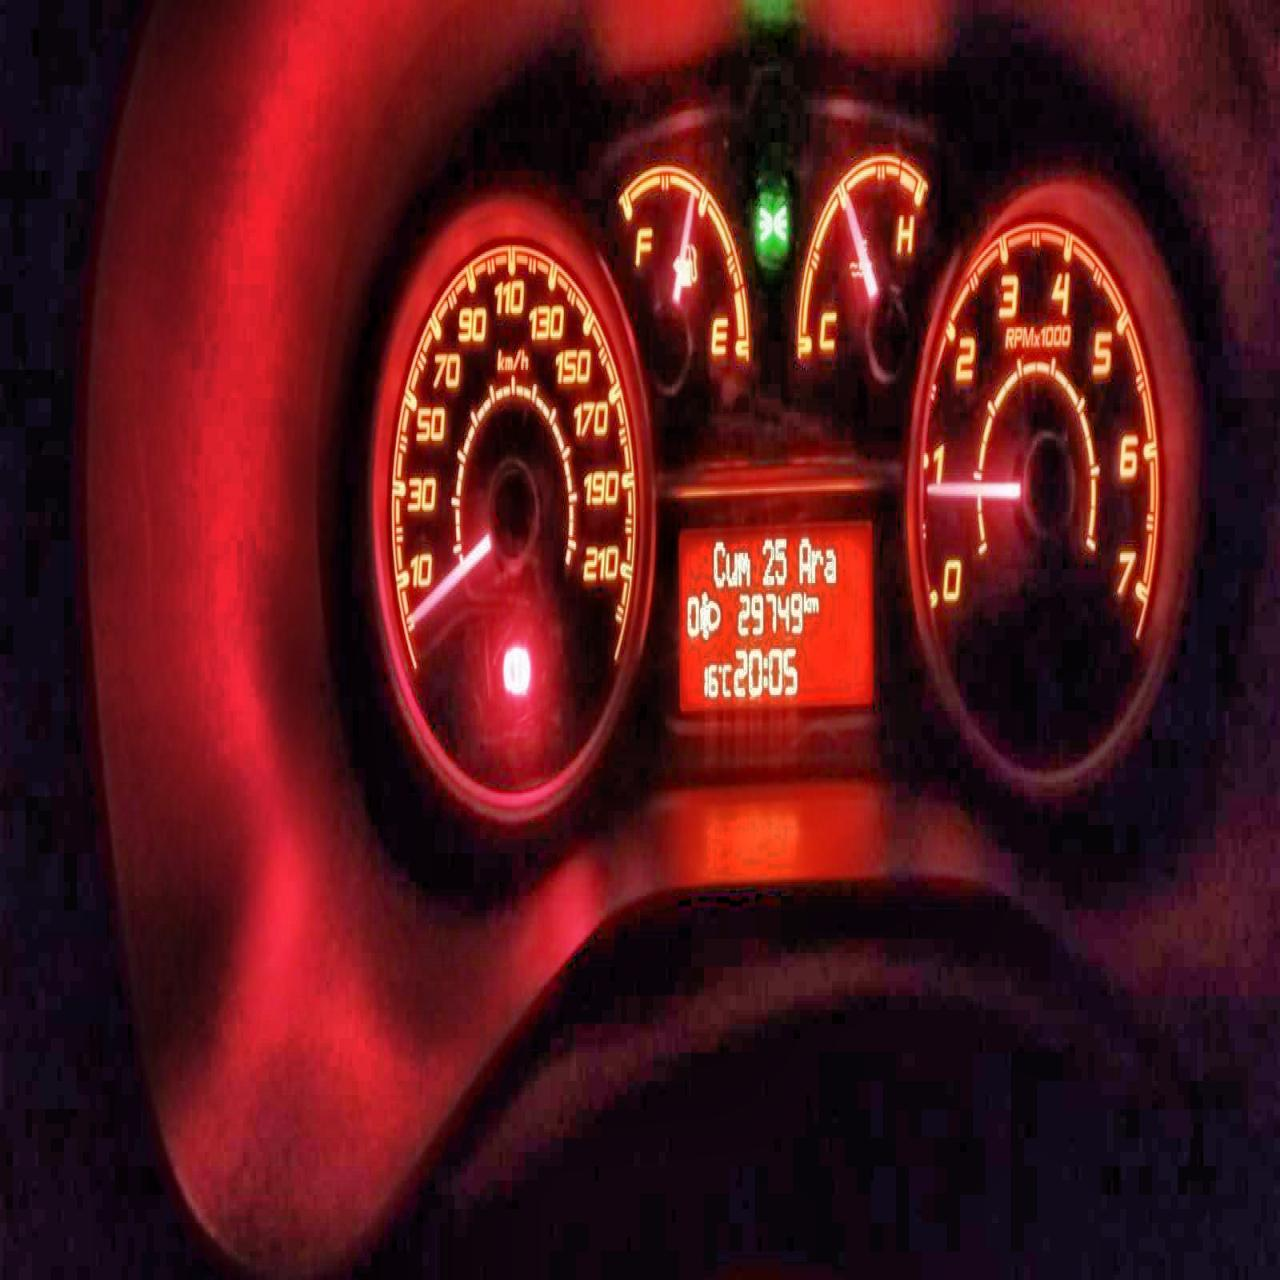0: (768, 647, 783, 695), (748, 647, 762, 697), (686, 591, 700, 636)
1: (702, 661, 708, 699)
2: (731, 645, 747, 696), (736, 592, 750, 635), (762, 537, 774, 585)
4: (777, 592, 790, 631)
5: (774, 535, 788, 585), (783, 645, 797, 695)
6: (708, 663, 717, 699)
7: (765, 591, 777, 633)
9: (750, 591, 763, 635), (790, 591, 803, 633)
X: (798, 535, 811, 583), (713, 537, 726, 585), (811, 546, 823, 584), (824, 546, 836, 581), (737, 550, 749, 585), (722, 659, 733, 696), (726, 550, 736, 587), (763, 653, 768, 692), (803, 591, 810, 612), (810, 595, 817, 613)
odometer: (674, 520, 874, 707)
